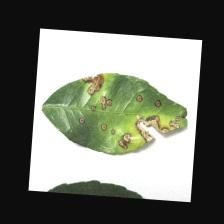canker: (66, 72, 191, 159)
